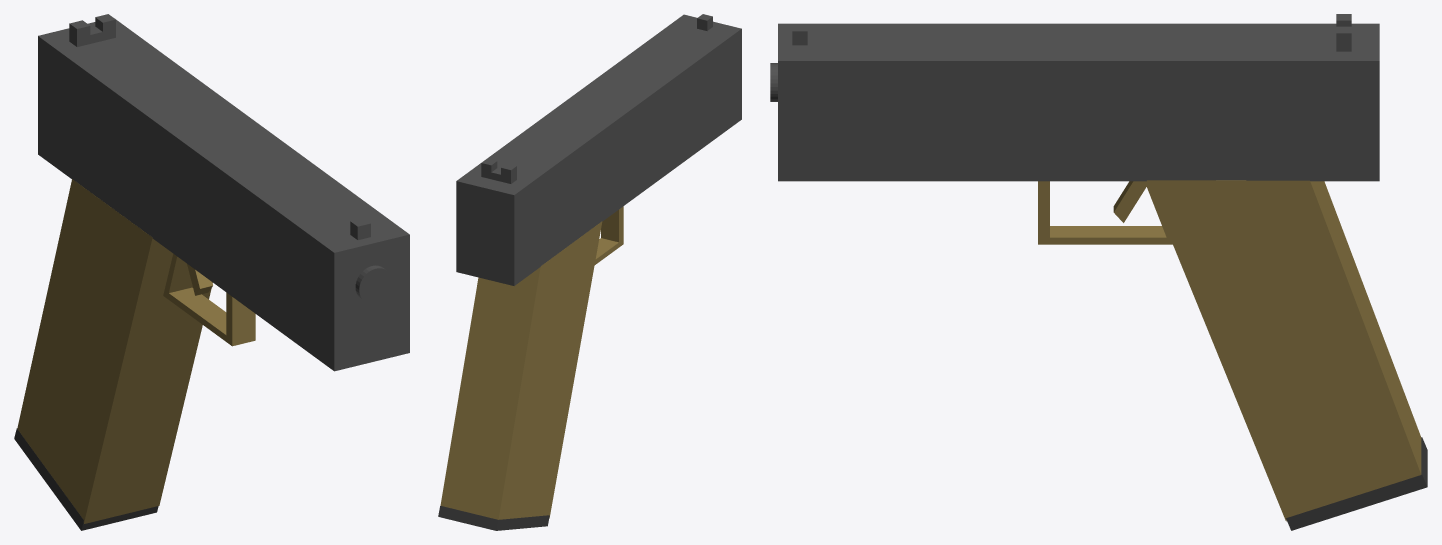
The model's file is AEP_Glock18.fbx.
3 renders of one model, left to right at view 1: azimuth 30°, elevation 25°; view 2: azimuth 150°, elevation 25°; view 3: azimuth 270°, elevation 25°, orthographic. The views are drawn at different scales.
Visible parts, largest first — view 1: Pistol, Magazine; view 2: Pistol, Magazine; view 3: Pistol, Magazine.
Boxes of the visible parts, x1,y1,x2,y2 form: Pistol: (17, 14, 409, 523); Magazine: (14, 428, 158, 530); Pistol: (440, 14, 741, 519); Magazine: (438, 505, 549, 530); Pistol: (770, 14, 1421, 521); Magazine: (1286, 437, 1427, 530).
Bounding box in the file's own units: 201 × 1218 × 1486.
